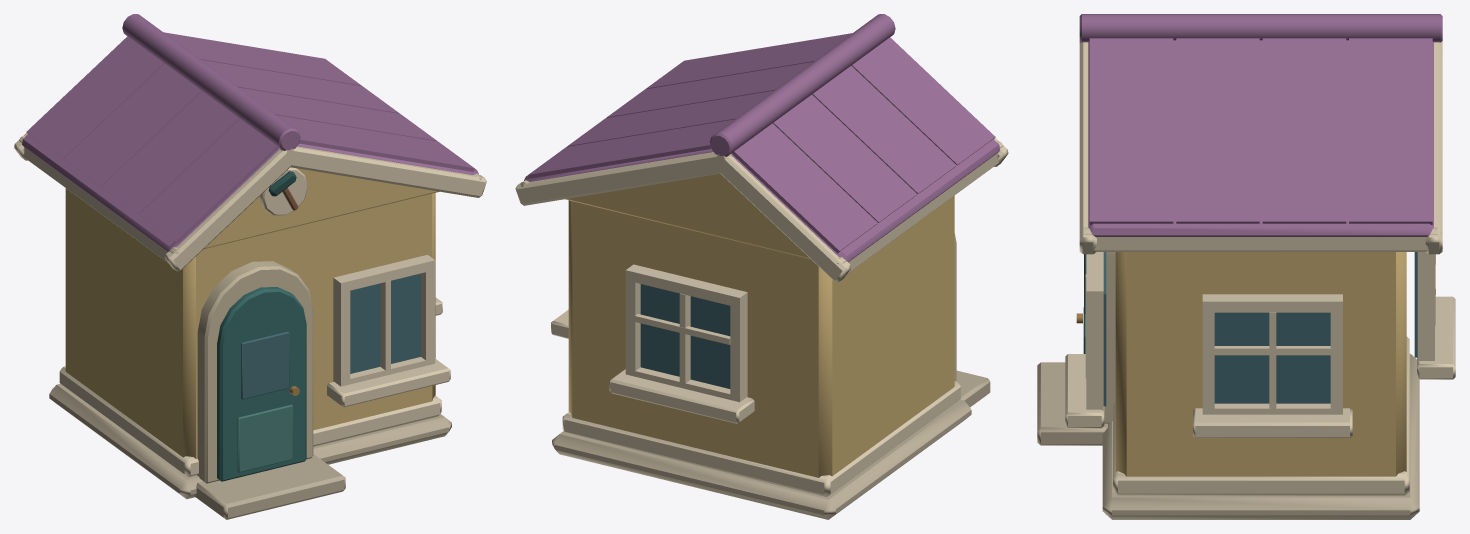
File: workshop_level_1.glb
The picture shows the model from 3 angles, left to right: view 1: azimuth 30°, elevation 25°; view 2: azimuth 150°, elevation 25°; view 3: azimuth 270°, elevation 25°; orthographic projection. The views are drawn at different scales.
Visible parts, largest first — view 1: workshop_level_1_runtime; view 2: workshop_level_1_runtime; view 3: workshop_level_1_runtime.
Boxes of the visible parts, box(x1,y1,x2,y2) form: workshop_level_1_runtime: box(14, 14, 486, 519); workshop_level_1_runtime: box(515, 14, 1008, 519); workshop_level_1_runtime: box(1037, 14, 1455, 519).
Size of the model in its own units: 2.96 by 3.15 by 2.91.
